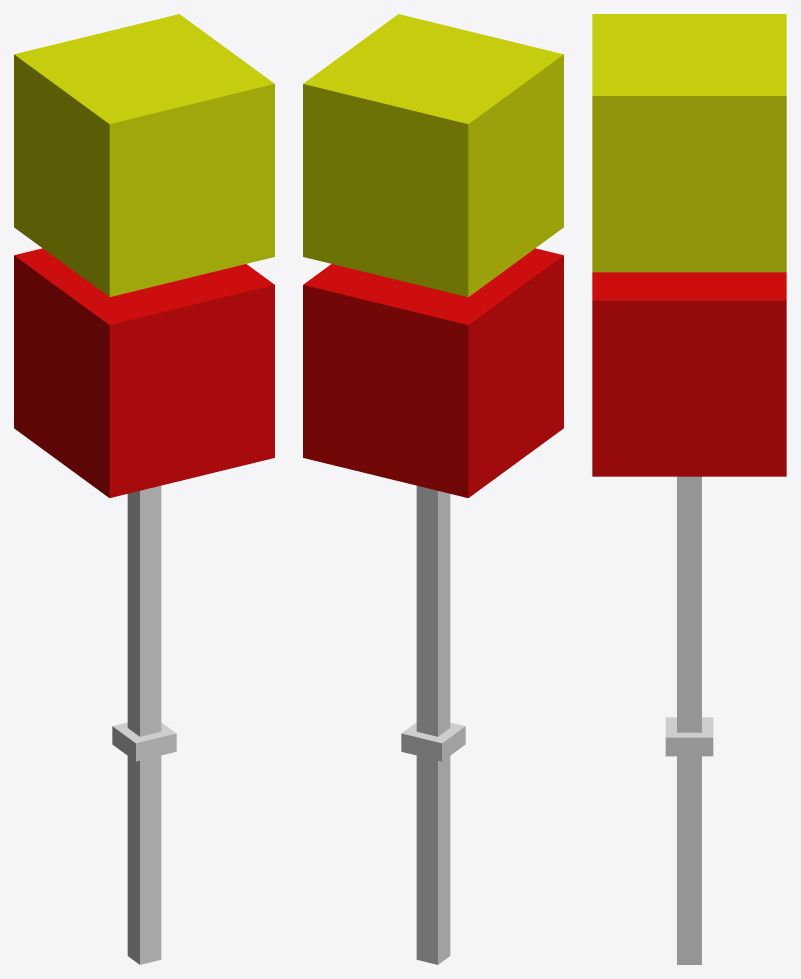
The model's file is Billboard_3.fbx.
3 renders of one model, left to right at view 1: azimuth 30°, elevation 25°; view 2: azimuth 150°, elevation 25°; view 3: azimuth 270°, elevation 25°, orthographic.
Parts seen in each view (by area): view 1: polySurface8; view 2: polySurface8; view 3: polySurface8.
Boxes of the visible parts, x1,y1,x2,y2 form: polySurface8: (14,14,274,964); polySurface8: (303,14,563,964); polySurface8: (592,14,786,964).
Bounding box in the file's own units: 5.26 × 27 × 5.26.
